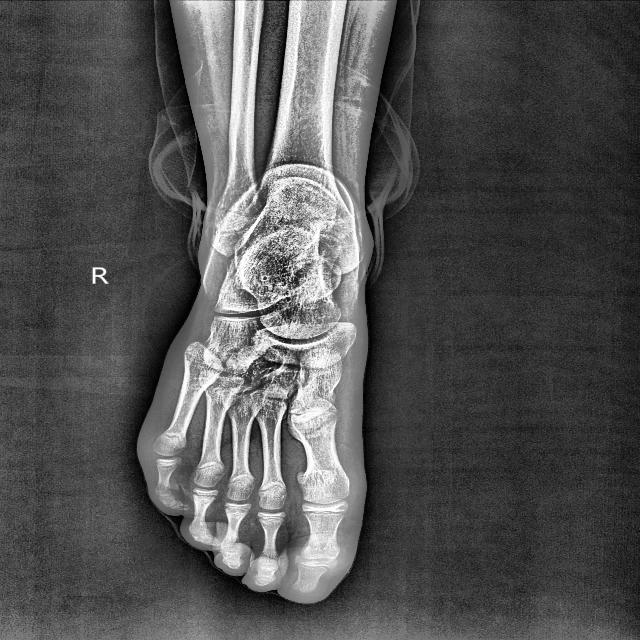Not_Fracture: (127, 0, 405, 610)
